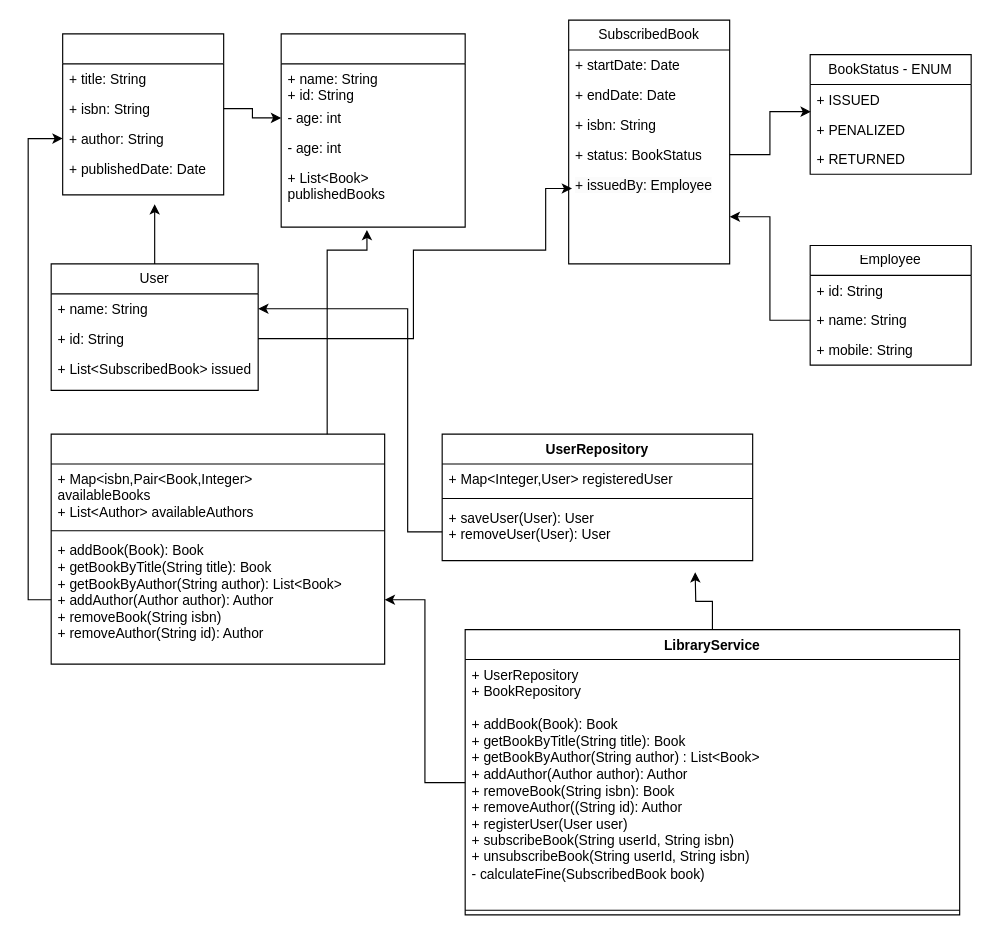
Image size: 991x935. Some labels were removed from this diagram. The box of each missing label's shape, as (x1, y1, x2, y2) in pixels:
Author: (280, 33, 465, 227)
Book: (62, 33, 224, 195)
BookRepository: (50, 433, 385, 664)
